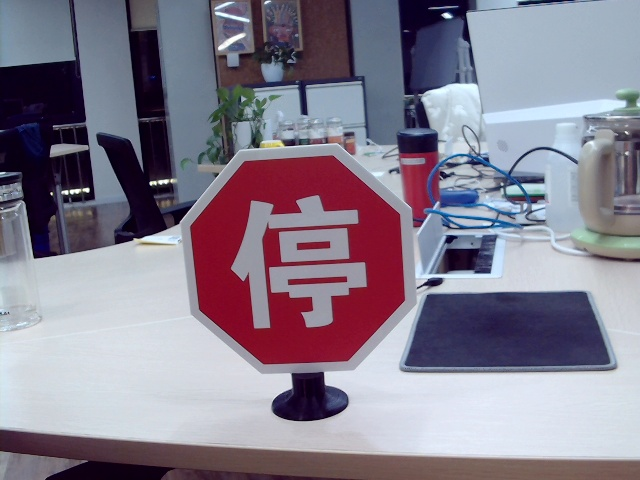stop: (224, 189, 369, 330)
